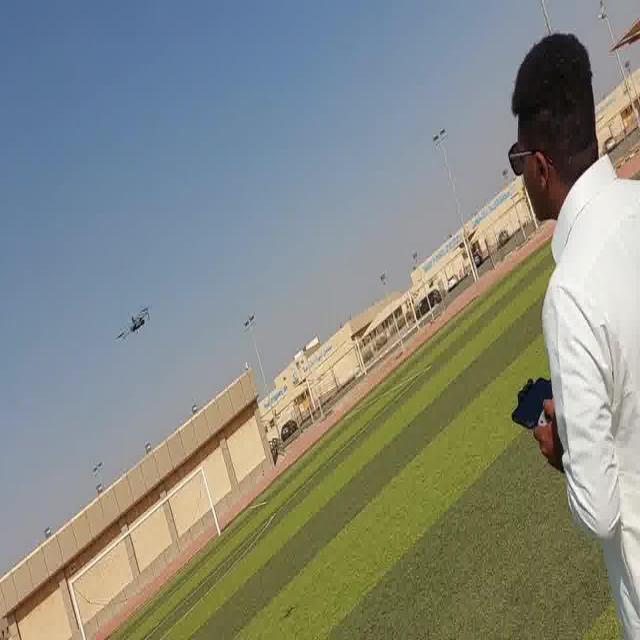drone: (112, 300, 155, 346)
